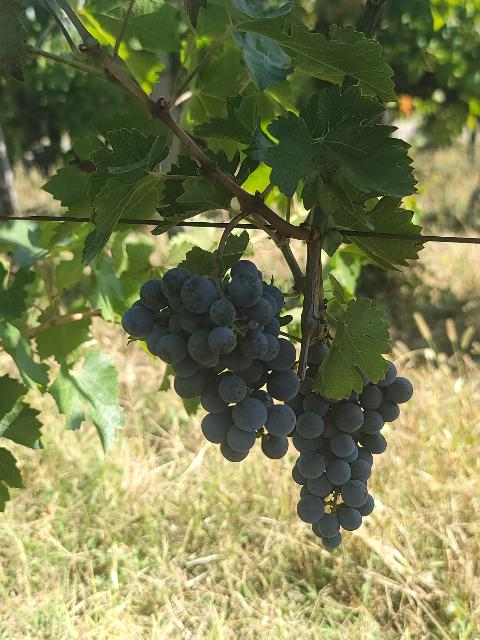grapes: (121, 260, 300, 461), (292, 362, 412, 549), (309, 342, 329, 368)
